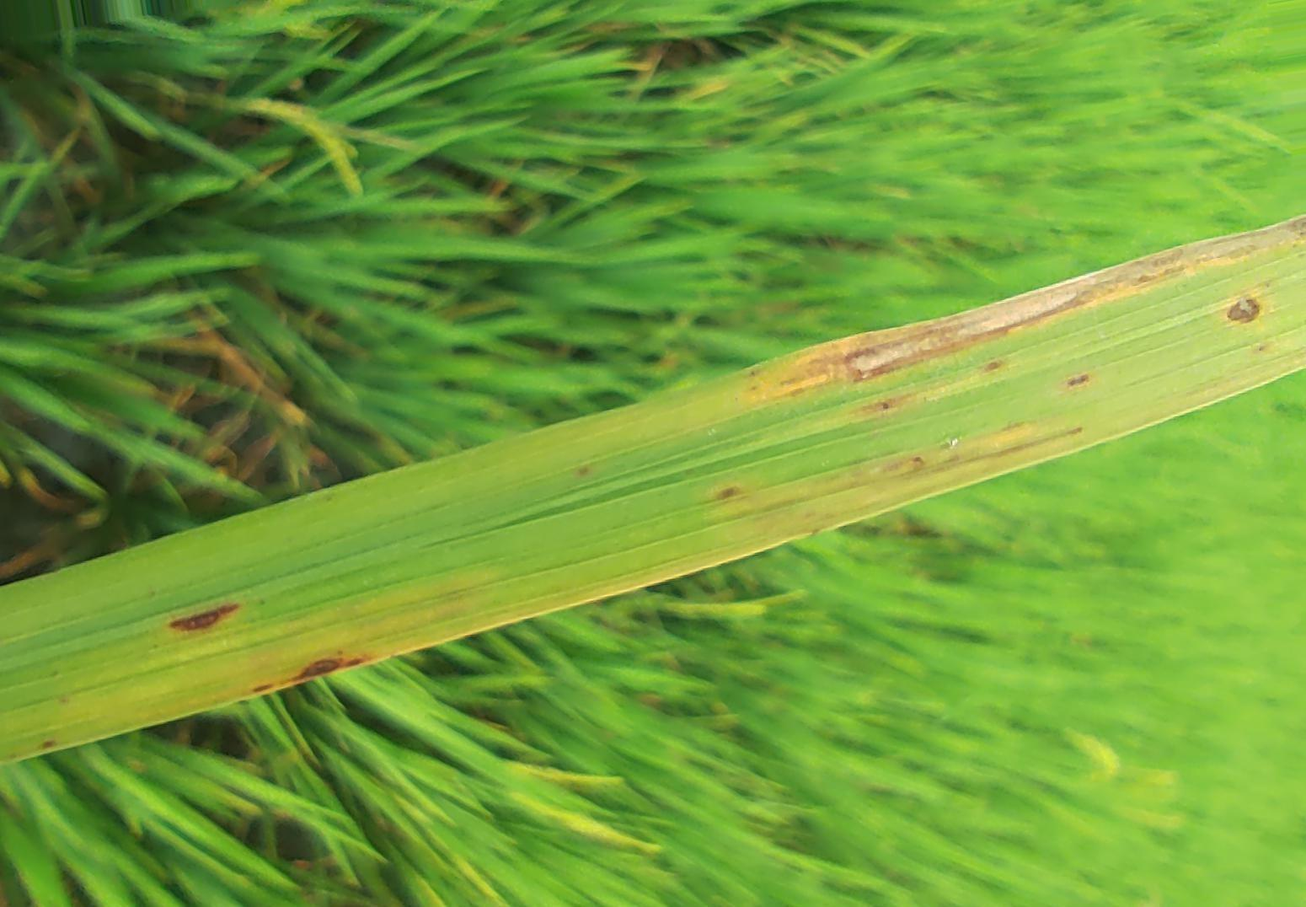LEAF: (0, 216, 1305, 760)
LEAF BLAST: (831, 262, 1131, 381), (164, 595, 244, 635), (296, 656, 369, 681), (297, 657, 343, 679), (1228, 296, 1261, 322)
